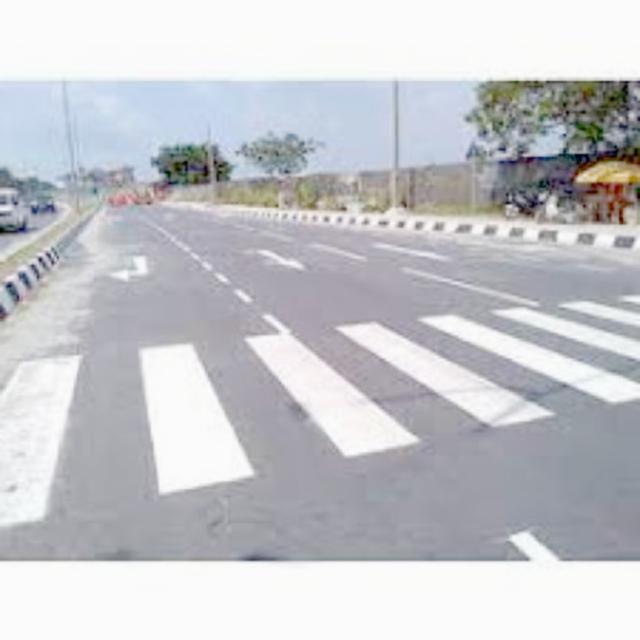Pedestrian crosswalk: (3, 279, 640, 536)
